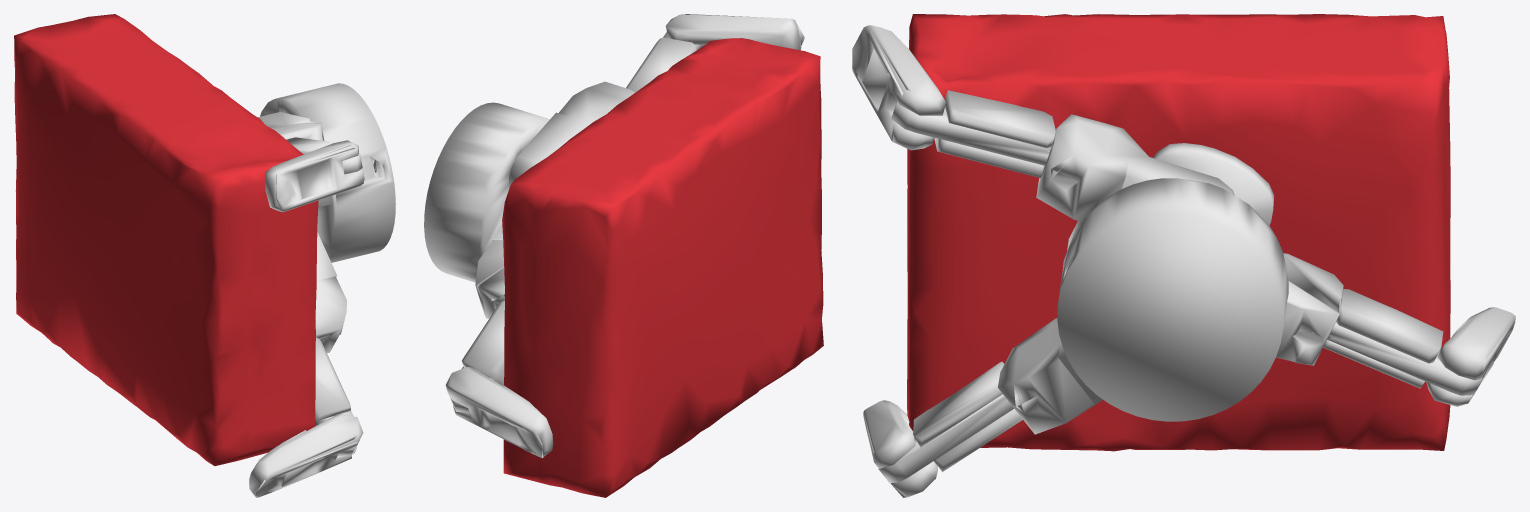
File: barret_box.glb
3 renders of one model, left to right at view 1: azimuth 30°, elevation 25°; view 2: azimuth 150°, elevation 25°; view 3: azimuth 270°, elevation 25°, orthographic. The views are drawn at different scales.
Visible parts, largest first — view 1: obj, body_1, body_10, body_19, body_4, body_7, body_13, body_16; view 2: obj, body_1, body_25, body_13, body_19, body_22, body_16; view 3: obj, body_1, body_13, body_16, body_22, body_7, body_4, body_19, body_25, body_10.
Part boxes in pixels (x1=…): obj: x1=14, y1=14, x2=318, y2=465; body_1: x1=260, y1=83, x2=395, y2=262; body_10: x1=249, y1=414, x2=363, y2=497; body_19: x1=265, y1=140, x2=364, y2=212; body_4: x1=315, y1=232, x2=346, y2=353; body_7: x1=315, y1=337, x2=356, y2=455; body_13: x1=258, y1=112, x2=324, y2=140; body_16: x1=286, y1=137, x2=362, y2=174; obj: x1=502, y1=38, x2=823, y2=497; body_1: x1=424, y1=102, x2=549, y2=318; body_25: x1=445, y1=366, x2=553, y2=457; body_13: x1=509, y1=81, x2=634, y2=188; body_19: x1=665, y1=14, x2=804, y2=50; body_22: x1=450, y1=300, x2=504, y2=413; body_16: x1=626, y1=32, x2=702, y2=92; obj: x1=907, y1=14, x2=1450, y2=451; body_1: x1=1057, y1=143, x2=1343, y2=421; body_13: x1=1036, y1=114, x2=1234, y2=221; body_16: x1=891, y1=90, x2=1055, y2=177; body_22: x1=1323, y1=289, x2=1482, y2=395; body_7: x1=878, y1=361, x2=1022, y2=482; body_4: x1=998, y1=318, x2=1102, y2=434; body_19: x1=852, y1=25, x2=945, y2=150; body_25: x1=1426, y1=307, x2=1515, y2=406; body_10: x1=863, y1=400, x2=937, y2=497.
Bounding box in the file's own units: 0.00148 × 0.00188 × 0.0026.
